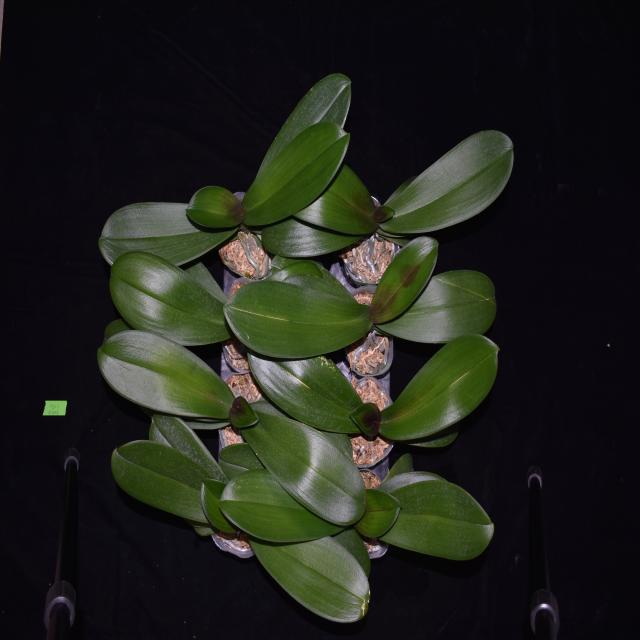leaf: (372, 128, 517, 238), (92, 328, 232, 428), (241, 414, 368, 524), (222, 271, 372, 363), (107, 249, 235, 353), (239, 526, 372, 624), (381, 333, 501, 440), (246, 329, 363, 437), (239, 122, 353, 229), (250, 70, 352, 188), (219, 464, 345, 543), (372, 264, 496, 342), (96, 204, 238, 268), (113, 441, 208, 531), (381, 479, 495, 552), (145, 404, 232, 486), (368, 230, 440, 323), (258, 216, 380, 259), (354, 487, 406, 550), (185, 187, 246, 233), (329, 520, 375, 576), (199, 476, 238, 538), (349, 394, 384, 448), (228, 394, 260, 429), (382, 452, 413, 482), (373, 194, 395, 222)
